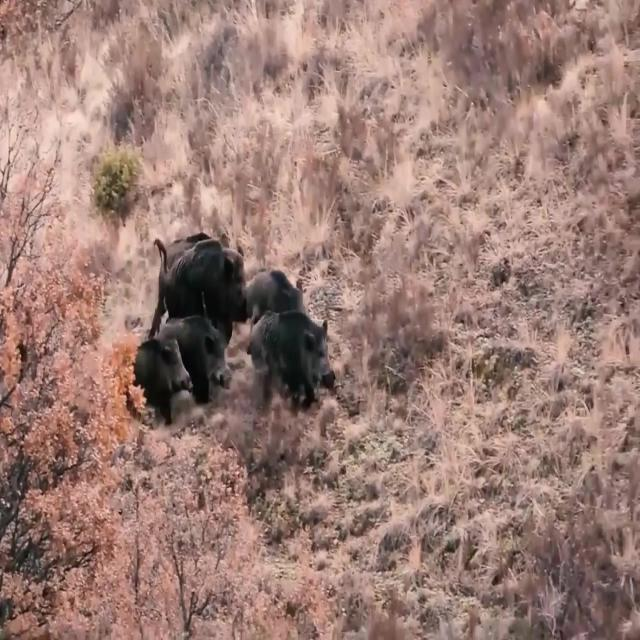pig: (152, 208, 242, 308), (272, 306, 340, 402), (132, 308, 182, 438), (182, 302, 232, 398), (248, 254, 310, 315)
